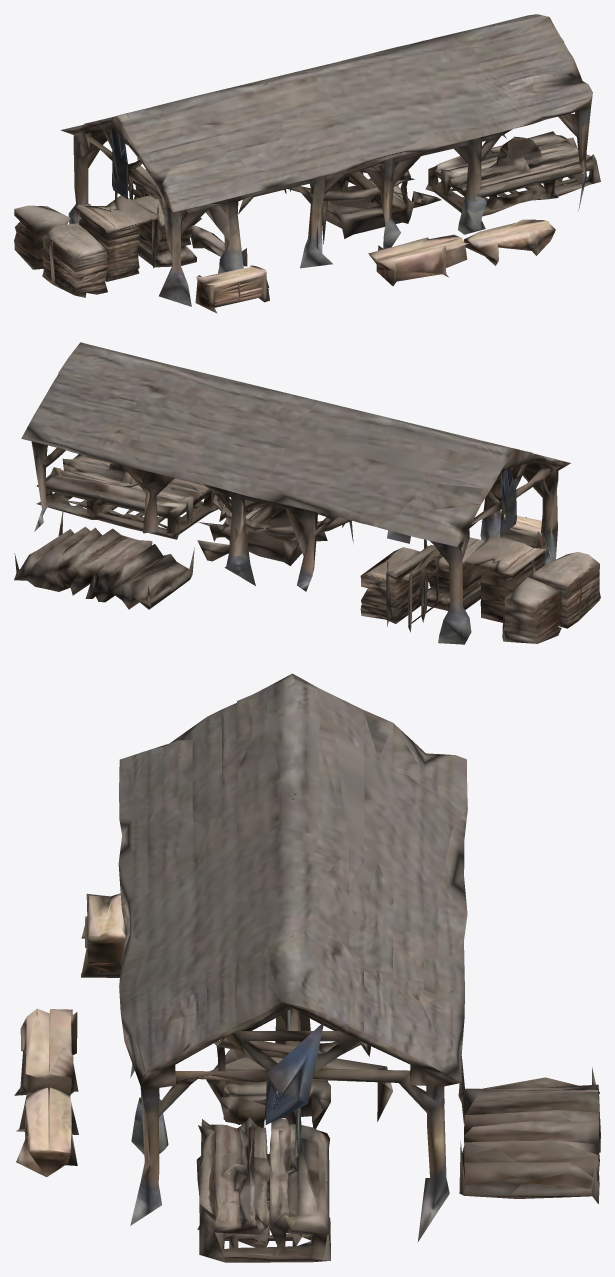
Rendered from lumber_mill_2.glb.
3 renders of one model, top to bottom at view 1: azimuth 30°, elevation 25°; view 2: azimuth 150°, elevation 25°; view 3: azimuth 270°, elevation 25°, orthographic. The views are drawn at different scales.
Visible parts, largest first — view 1: tripo_node_4382df72-011d-4521-8fb5-8051347d3e48; view 2: tripo_node_4382df72-011d-4521-8fb5-8051347d3e48; view 3: tripo_node_4382df72-011d-4521-8fb5-8051347d3e48.
Part boxes in pixels (x1,y1,x2,y2): tripo_node_4382df72-011d-4521-8fb5-8051347d3e48: [14, 14, 600, 313]; tripo_node_4382df72-011d-4521-8fb5-8051347d3e48: [14, 342, 600, 644]; tripo_node_4382df72-011d-4521-8fb5-8051347d3e48: [14, 673, 600, 1262].
Size of the model in its own units: 0.9738 by 0.2832 by 0.6116.
1 material, 1 textured.
